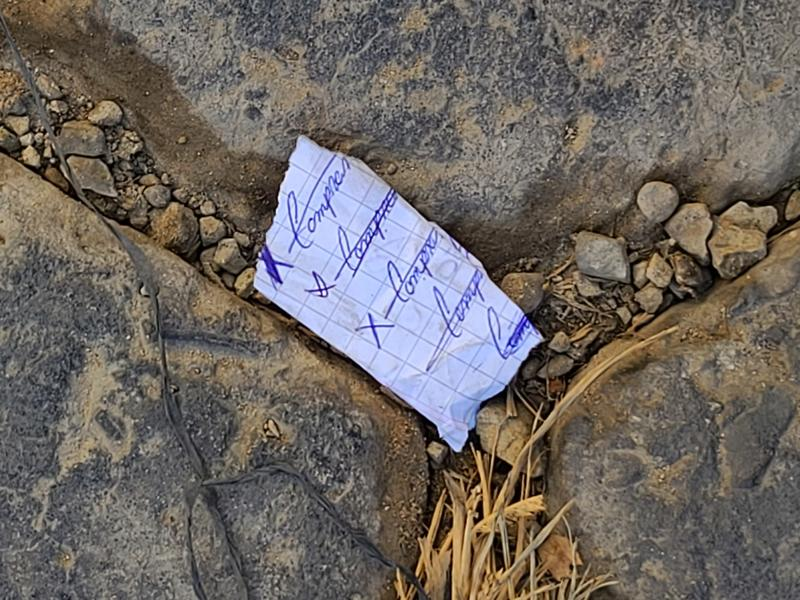papel: (252, 136, 543, 453)
